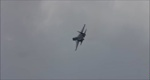maybay_muctieu: (69, 24, 88, 51)
